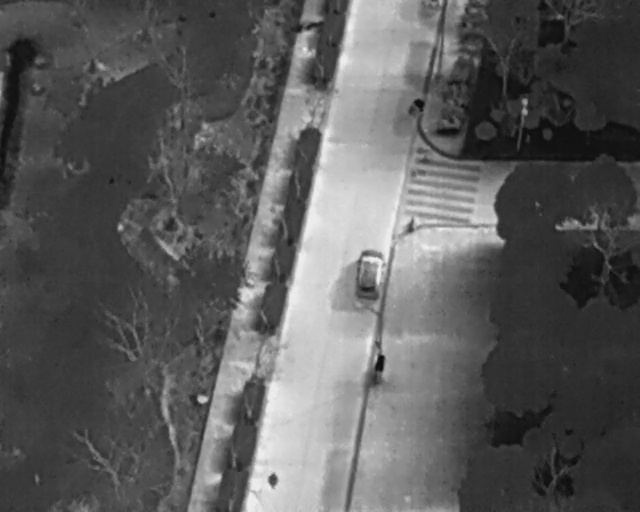Car: (354, 245, 386, 301)
Person: (266, 470, 280, 490)
